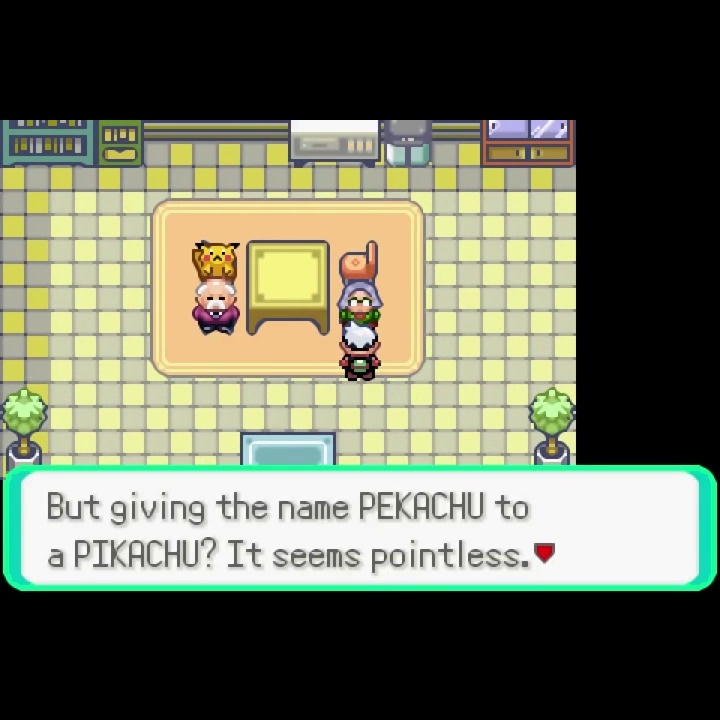exit: (238, 430, 337, 465)
npc: (190, 277, 242, 338), (337, 319, 384, 384), (335, 279, 385, 328)
